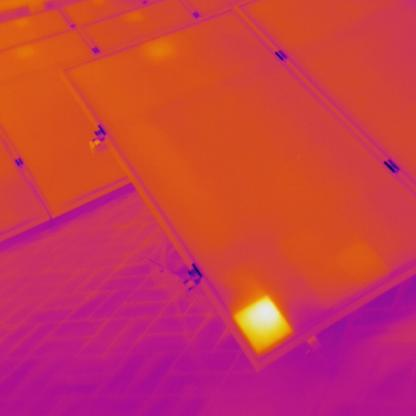hotspot: (232, 294, 298, 355)
